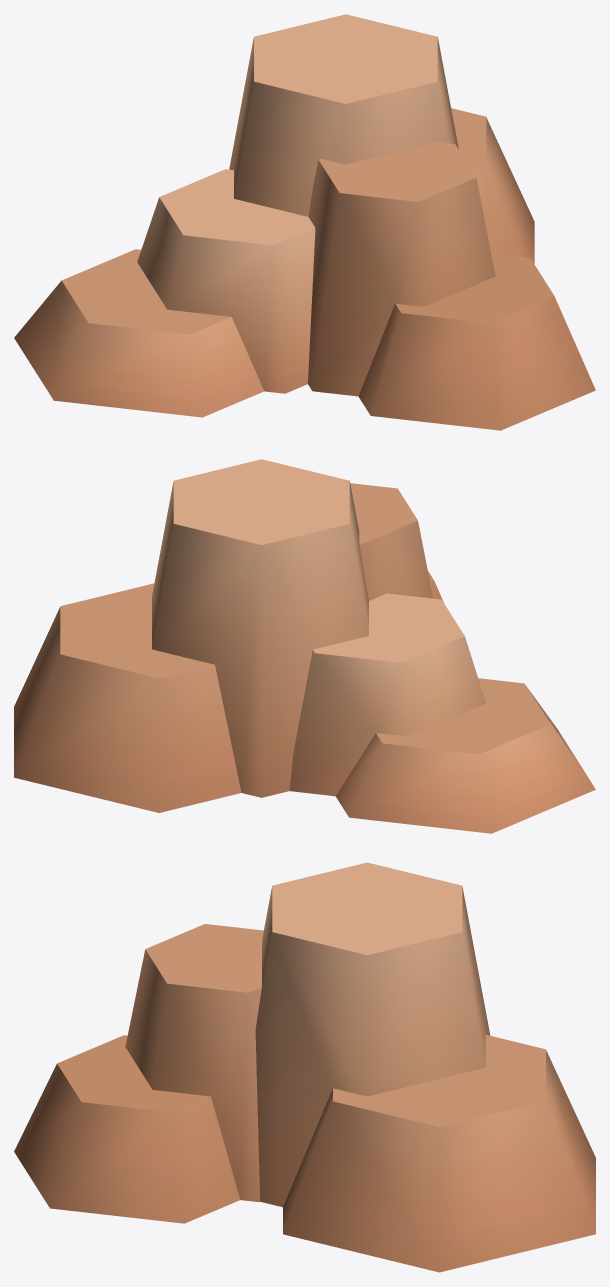
Rendered from kenney-survival-resource-stone-large.glb.
The picture shows the model from 3 angles, top to bottom: view 1: azimuth 30°, elevation 25°; view 2: azimuth 150°, elevation 25°; view 3: azimuth 270°, elevation 25°; orthographic projection. The views are drawn at different scales.
Visible parts, largest first — view 1: resource-stone-large; view 2: resource-stone-large; view 3: resource-stone-large.
Boxes of the visible parts, x1,y1,x2,y2 form: resource-stone-large: (14,14,595,430); resource-stone-large: (14,459,595,833); resource-stone-large: (14,862,595,1272).
Size of the model in its own units: 0.376 by 0.1602 by 0.3369.
1 material, 1 textured.
